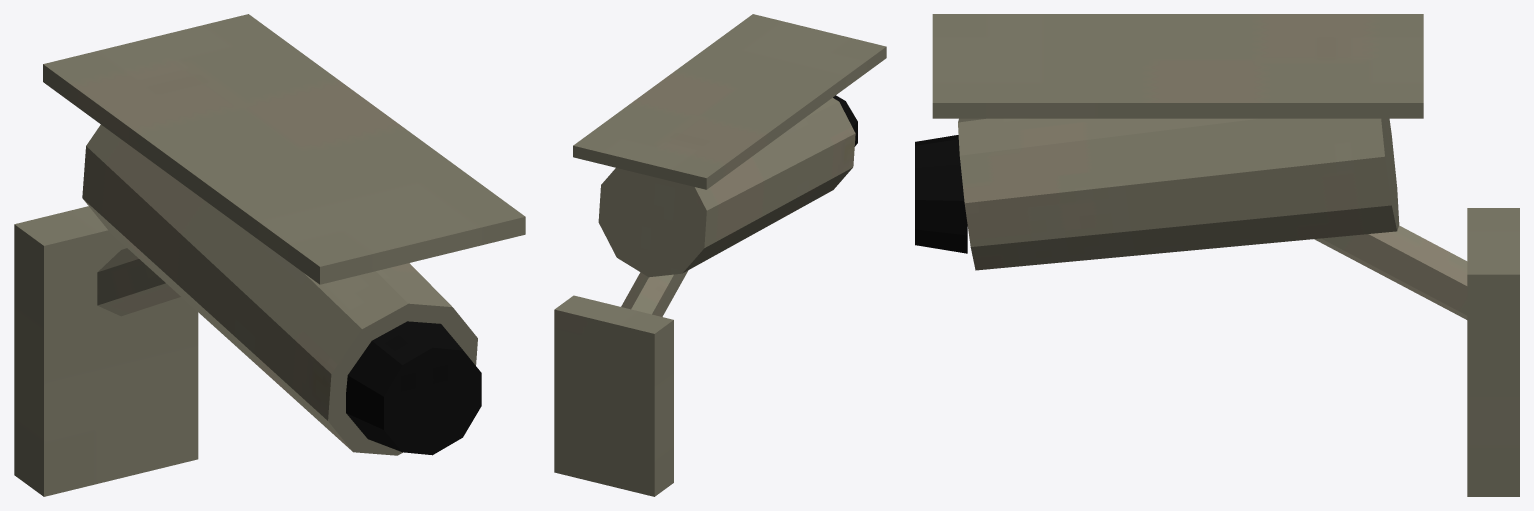
The model's file is security_camera_01.glb.
The picture shows the model from 3 angles, left to right: view 1: azimuth 30°, elevation 25°; view 2: azimuth 150°, elevation 25°; view 3: azimuth 270°, elevation 25°; orthographic projection. The views are drawn at different scales.
Parts seen in each view (by area): view 1: security_camera_01; view 2: security_camera_01; view 3: security_camera_01.
Part boxes in pixels (x1,y1,x2,y2): security_camera_01: (14, 14, 525, 496); security_camera_01: (554, 14, 886, 496); security_camera_01: (915, 14, 1519, 496).
Bounding box in the file's own units: 0.12 × 0.255 × 0.345.
Materials: 2 (2 with a texture image).
